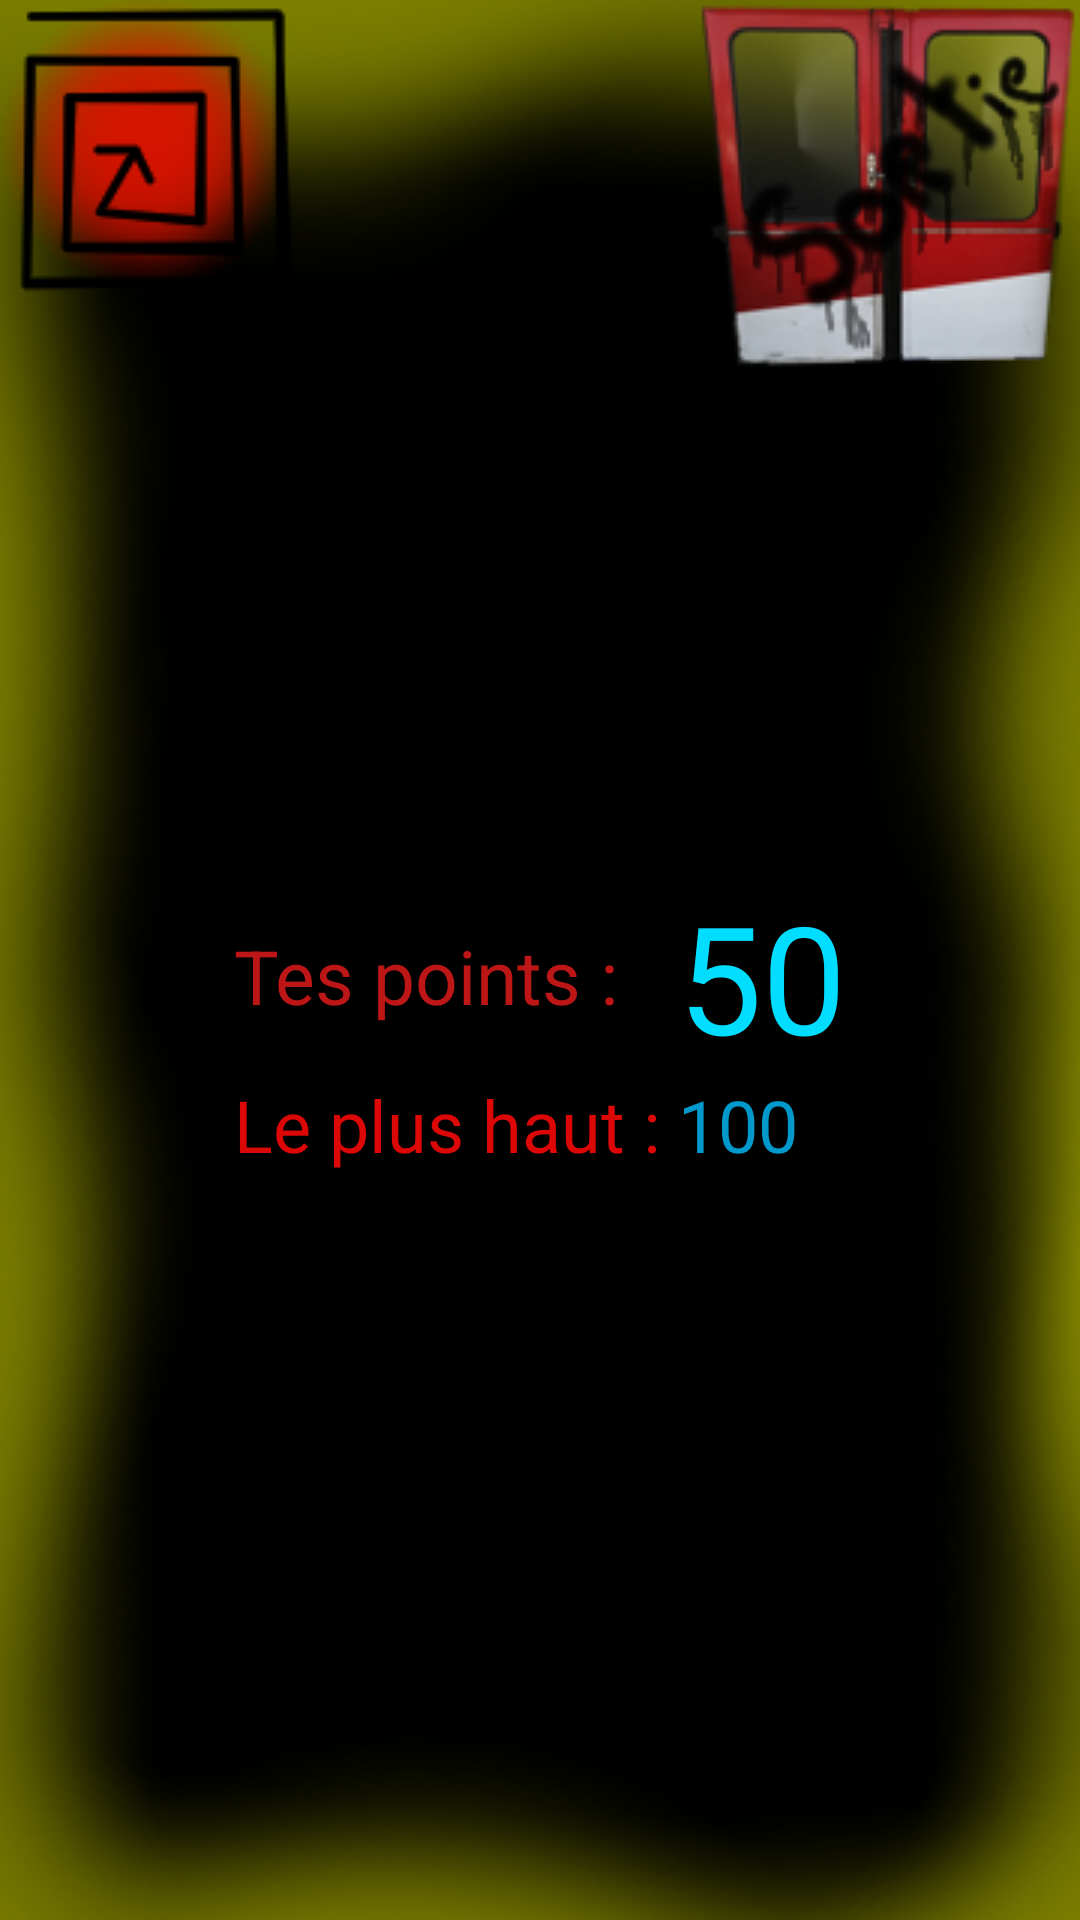

Point at icon controls on the screen. Image size 1080w x 1920h, points as [x,y].
restart: [150,150]
